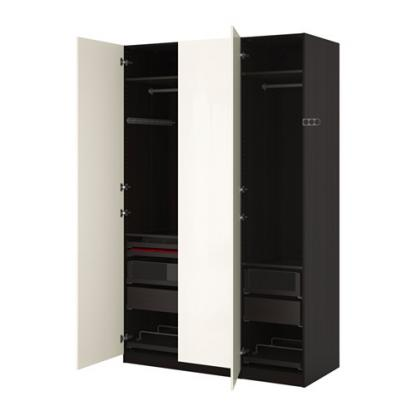Cabinet: (72, 19, 344, 391)
